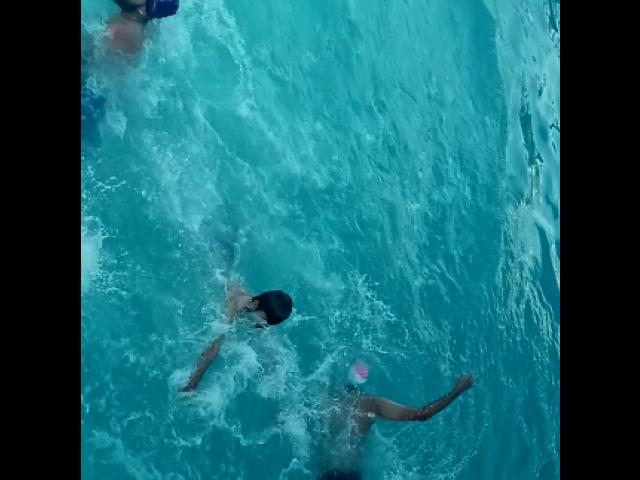swimming: (310, 359, 478, 480), (83, 0, 181, 156), (187, 278, 297, 394)
